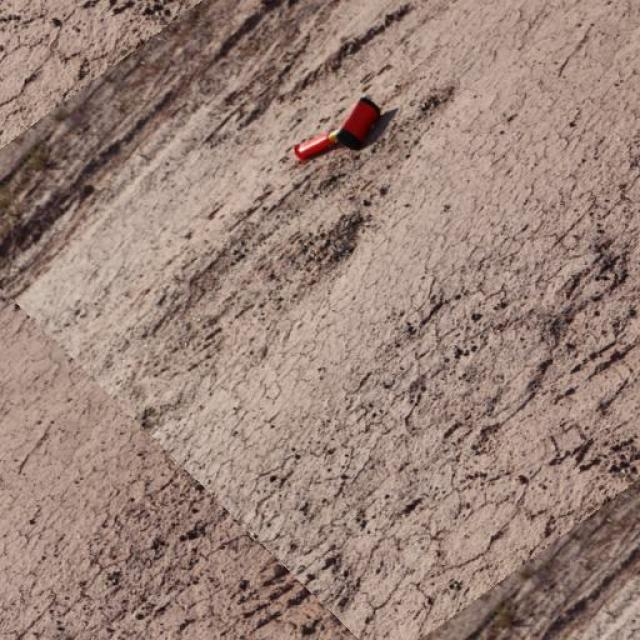mallet: (291, 94, 380, 162)
